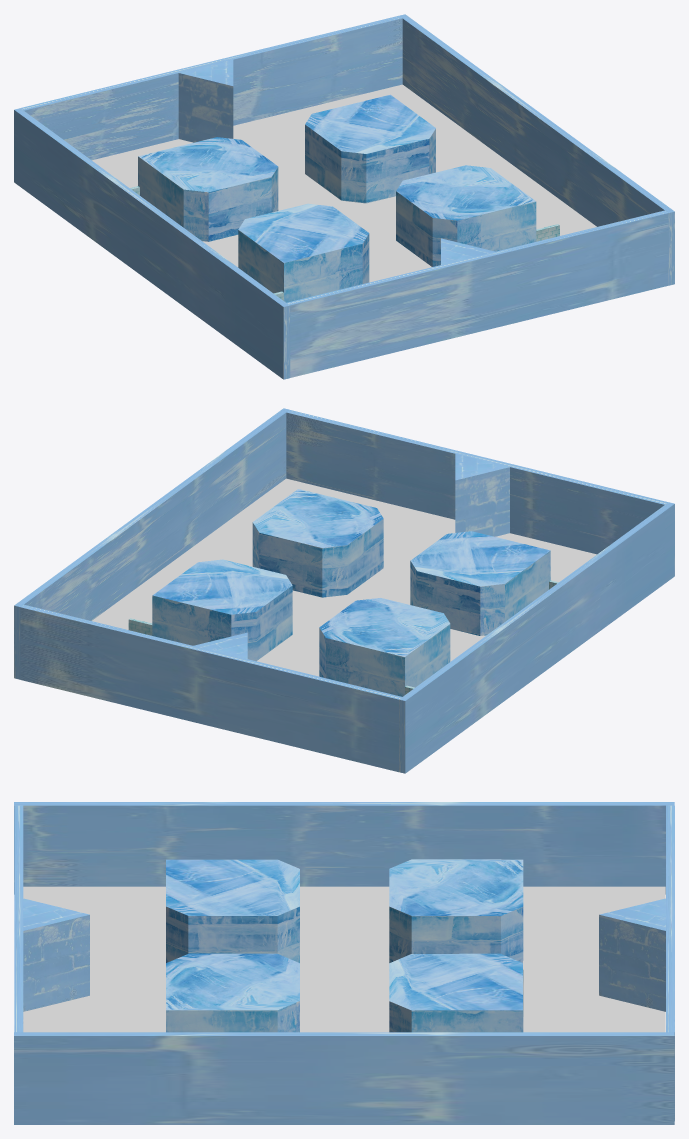
File: frozen.glb
3 views of the same model, one above another, from view 1: azimuth 30°, elevation 25°; view 2: azimuth 150°, elevation 25°; view 3: azimuth 270°, elevation 25° (orthographic). The views are drawn at different scales.
Parts seen in each view (by area): view 1: Cube.006, Cube.007, Cube.005, Cube.008, Cube.004, Cylinder.001, Cylinder.003, Cylinder, Cylinder.002, Cylinder.005, Cylinder.004; view 2: Cube.005, Cube.007, Cube.006, Cube.008, Cube.004, Cylinder, Cylinder.002, Cylinder.001, Cylinder.003, Cylinder.004, Cylinder.005; view 3: Cube.008, Cube.007, Cube.004, Cylinder.003, Cylinder.002, Cylinder.001, Cylinder, Cylinder.004, Cylinder.005, Cube.006, Cube.005.
Part boxes in pixels (x1,y1,x2,y2): Cube.006: (286,210,668,377); Cube.007: (14,108,289,379); Cube.005: (20,15,402,160); Cube.008: (399,14,674,285); Cube.004: (92,84,596,282); Cylinder.001: (305,94,435,203); Cylinder.003: (138,137,278,241); Cylinder: (396,165,536,266); Cylinder.002: (238,203,369,302); Cylinder.005: (178,60,233,142); Cylinder.004: (441,238,494,264); Cube.005: (20,604,401,772); Cube.007: (399,502,674,773); Cube.006: (286,410,668,554); Cube.008: (14,408,289,679); Cube.004: (92,478,596,676); Cylinder: (252,489,383,597); Cylinder.002: (410,531,550,635); Cylinder.001: (152,559,292,661); Cylinder.003: (319,598,450,696); Cylinder.004: (455,454,509,536); Cylinder.005: (193,632,247,658); Cube.008: (14,1032,674,1124); Cube.007: (14,802,674,894); Cube.004: (23,886,665,1032); Cylinder.003: (389,859,523,962); Cylinder.002: (166,859,299,962); Cylinder.001: (389,953,523,1032); Cylinder: (166,953,299,1032); Cylinder.004: (23,898,89,1011); Cylinder.005: (599,898,665,1011); Cube.006: (14,805,23,1032); Cube.005: (666,805,674,1120).
Bounding box in the file's own units: 124 × 22 × 148.
7 materials, 7 textured.
